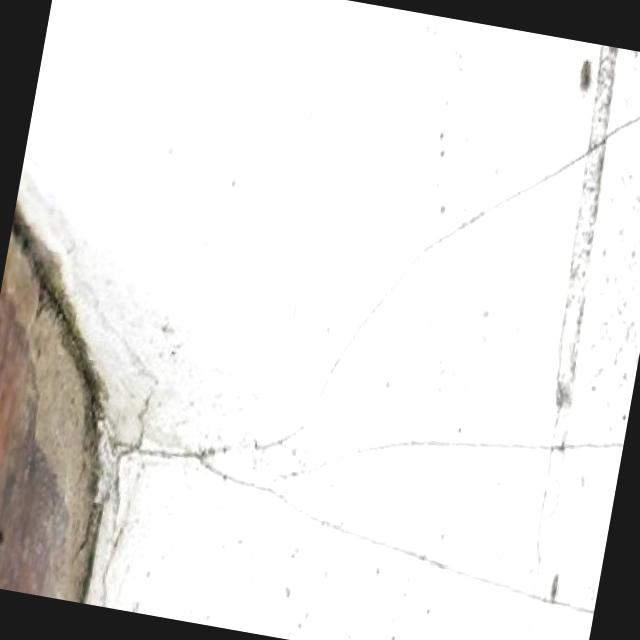crack: (109, 107, 640, 619), (10, 206, 103, 594), (268, 435, 621, 483)
